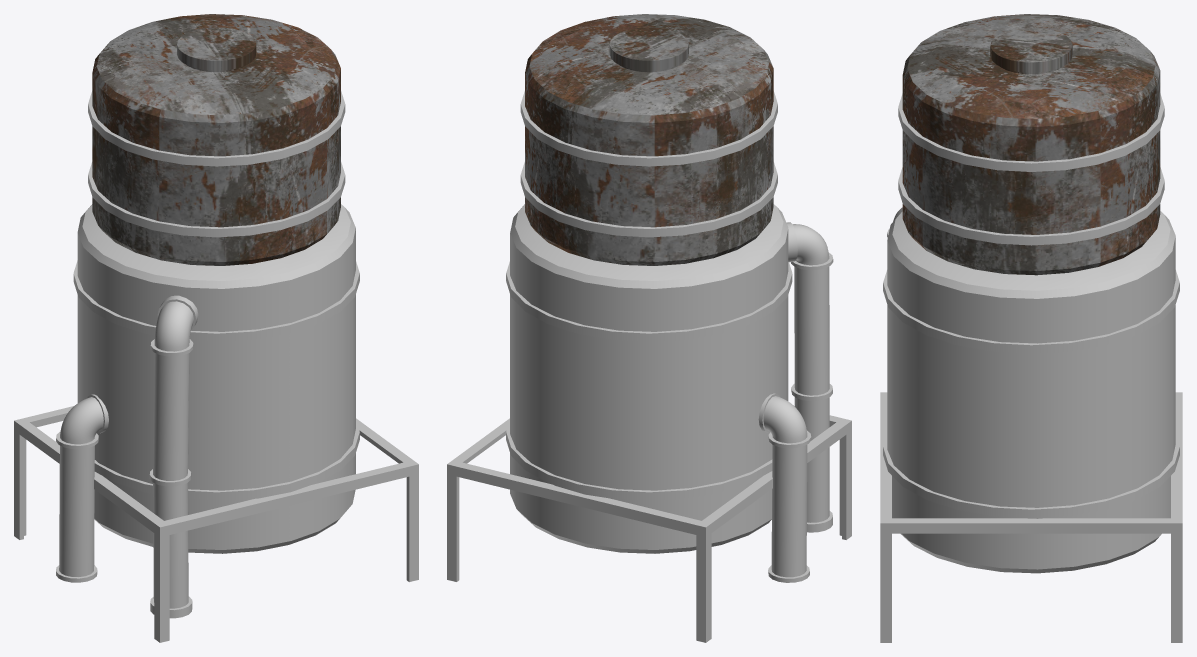
File: Component_TankA_grp.fbx
The picture shows the model from 3 angles, left to right: view 1: azimuth 30°, elevation 25°; view 2: azimuth 150°, elevation 25°; view 3: azimuth 270°, elevation 25°; orthographic projection. The views are drawn at different scales.
Parts seen in each view (by area): view 1: tankA_metalB, tankA_metalA, tankA_metalRust; view 2: tankA_metalB, tankA_metalA, tankA_metalRust; view 3: tankA_metalB, tankA_metalA, tankA_metalRust.
Boxes of the visible parts, x1,y1,x2,y2 form: tankA_metalB: (77, 204, 355, 553); tankA_metalA: (92, 14, 340, 265); tankA_metalRust: (14, 91, 418, 642); tankA_metalB: (510, 204, 788, 553); tankA_metalA: (525, 14, 773, 265); tankA_metalRust: (447, 91, 851, 642); tankA_metalB: (887, 211, 1175, 573); tankA_metalA: (902, 14, 1160, 275); tankA_metalRust: (880, 93, 1182, 642).
Bounding box in the file's own units: 138 × 235 × 121.
